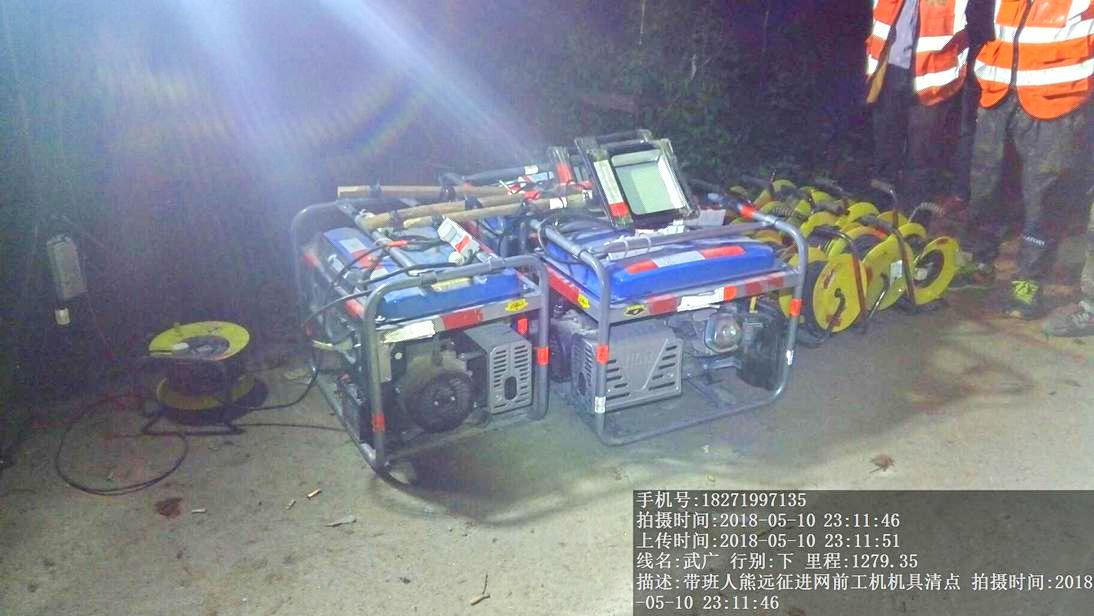DJ: (283, 205, 558, 465), (543, 224, 808, 432)
DX: (136, 325, 262, 422)
